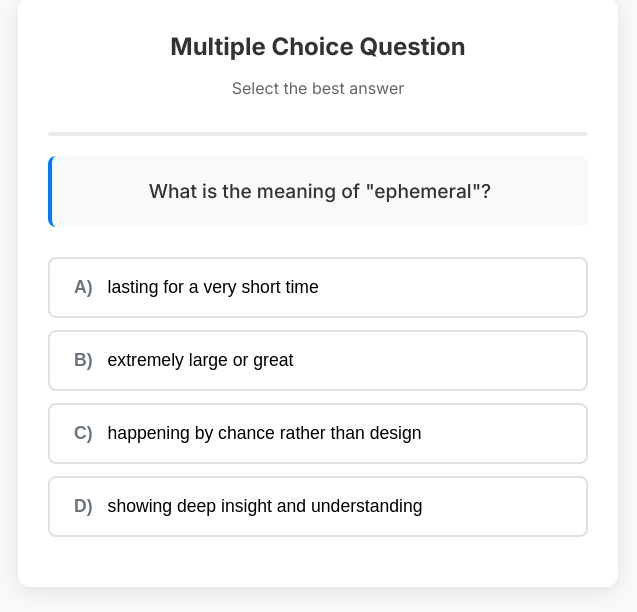
Scenario: MultipleChoice › handles correct answer selection
What coordinates should you click on to do the following:
click the button "A) lasting for a very short time"
I would click on:
 (318, 287)
Its box is [48,257,588,318].
Wait 2000 ms
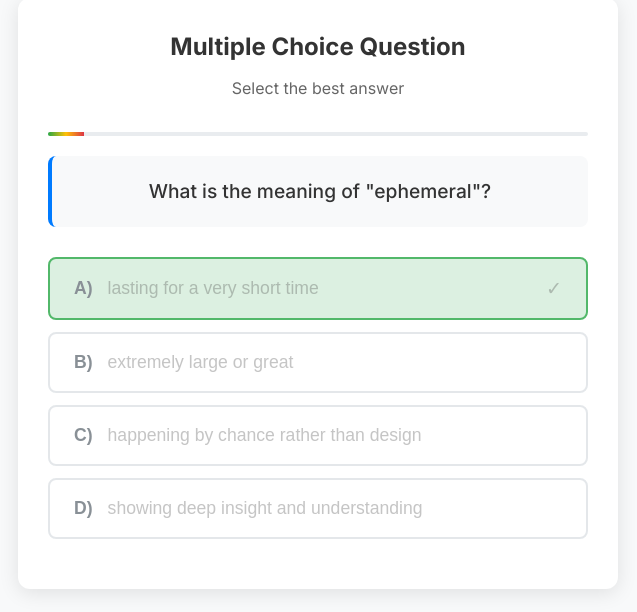
Now the text "✓" is shown, box [546,277,562,300]
